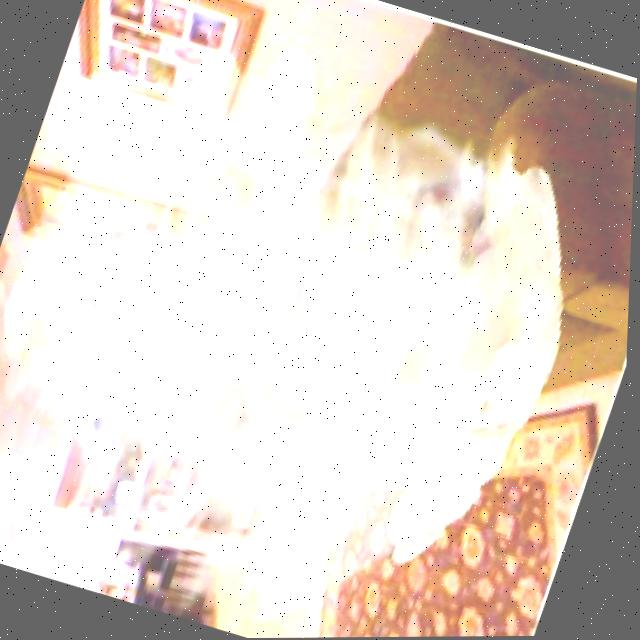Smoke: (0, 0, 628, 638)
